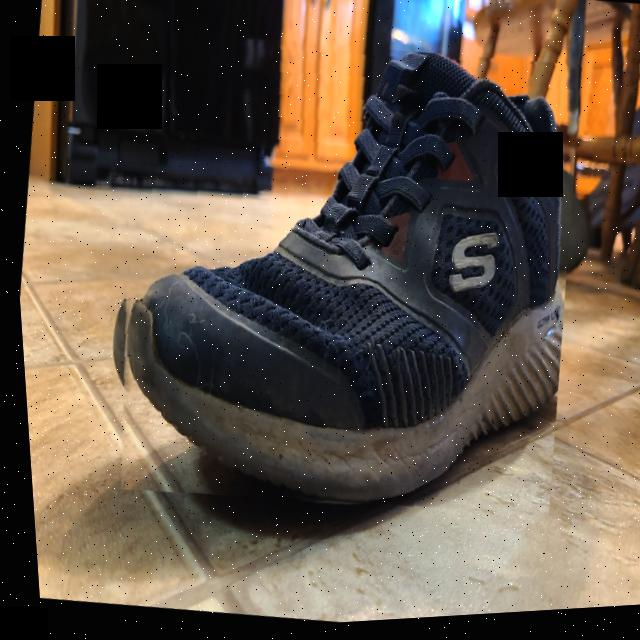shoe: (70, 10, 604, 551)
